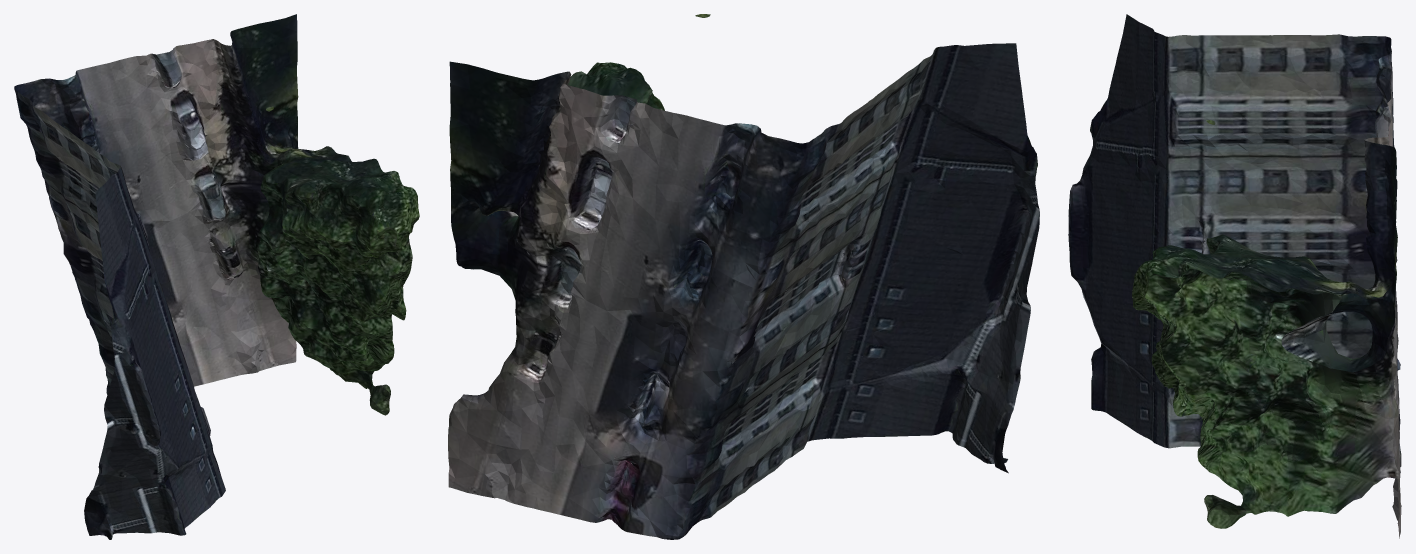
The model's file is Tile_+031_+023_L21_00003300.obj.
The picture shows the model from 3 angles, left to right: view 1: azimuth 30°, elevation 25°; view 2: azimuth 150°, elevation 25°; view 3: azimuth 270°, elevation 25°; orthographic projection. The views are drawn at different scales.
Bounding box in the file's own units: 31.38 × 31.38 × 26.41.
Materials: 1 (1 with a texture image).
